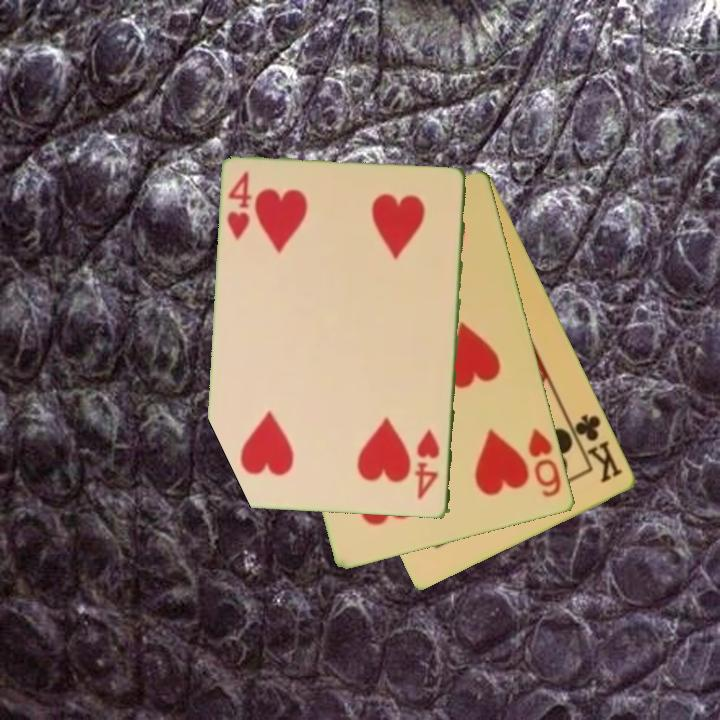4h: (224, 168, 255, 244), (414, 425, 443, 502)
6h: (525, 425, 565, 501)
Kc: (566, 410, 626, 486)
